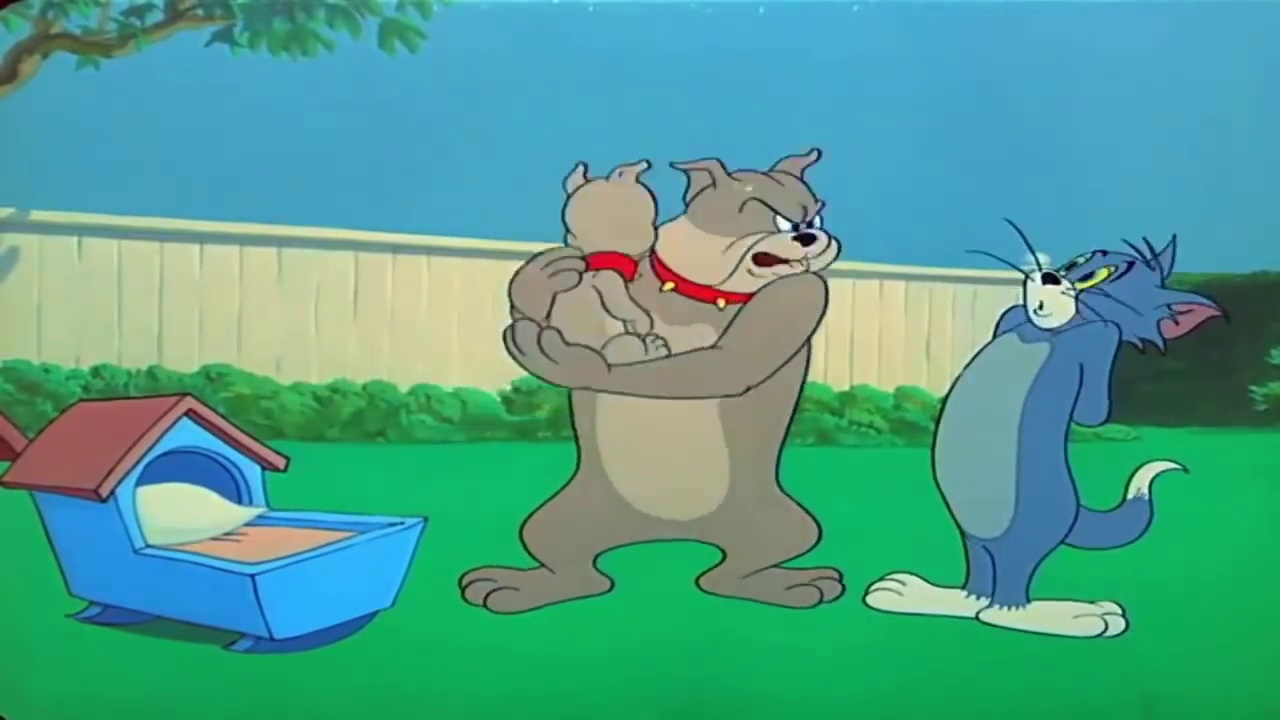spike: (649, 146, 847, 314)
tom: (1011, 224, 1233, 364)
